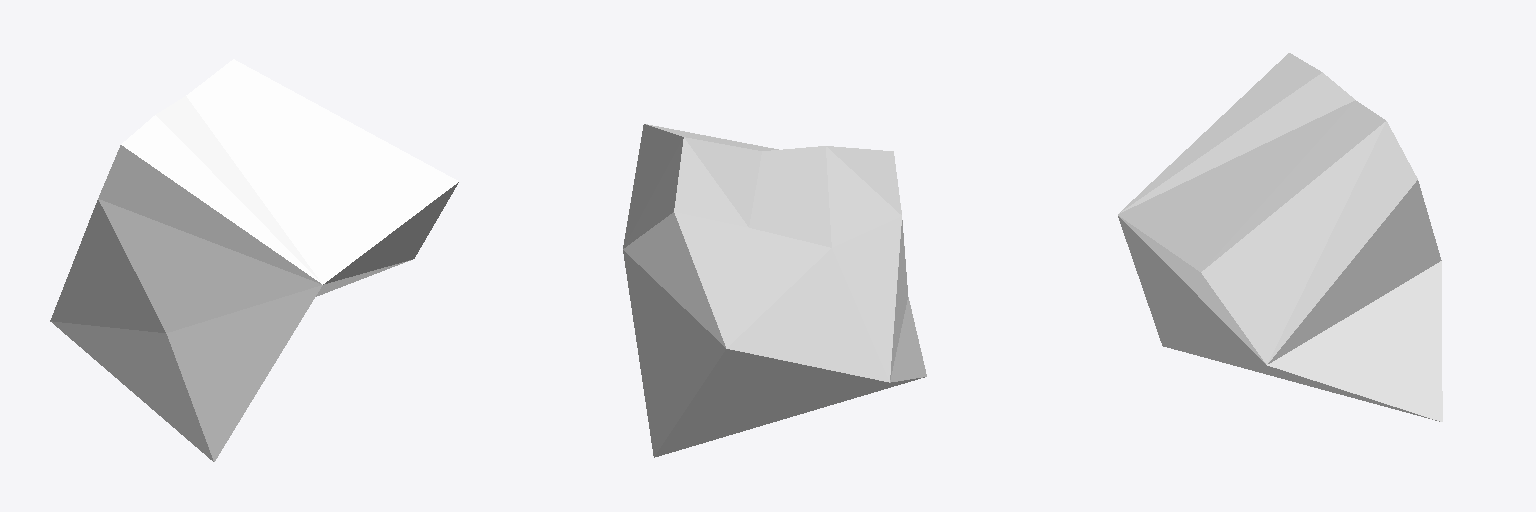
Rendered from piece4.obj.
3 views of the same model, side by side, from view 1: azimuth 30°, elevation 25°; view 2: azimuth 150°, elevation 25°; view 3: azimuth 270°, elevation 25° (orthographic).
Parts seen in each view (by area): view 1: mesh0060; view 2: mesh0060; view 3: mesh0060.
Boxes of the visible parts, box(x1,y1,x2,y2) form: mesh0060: box(50, 59, 458, 461); mesh0060: box(623, 124, 926, 457); mesh0060: box(1118, 53, 1442, 421).
Size of the model in its own units: 1.01 by 0.8868 by 0.8691.